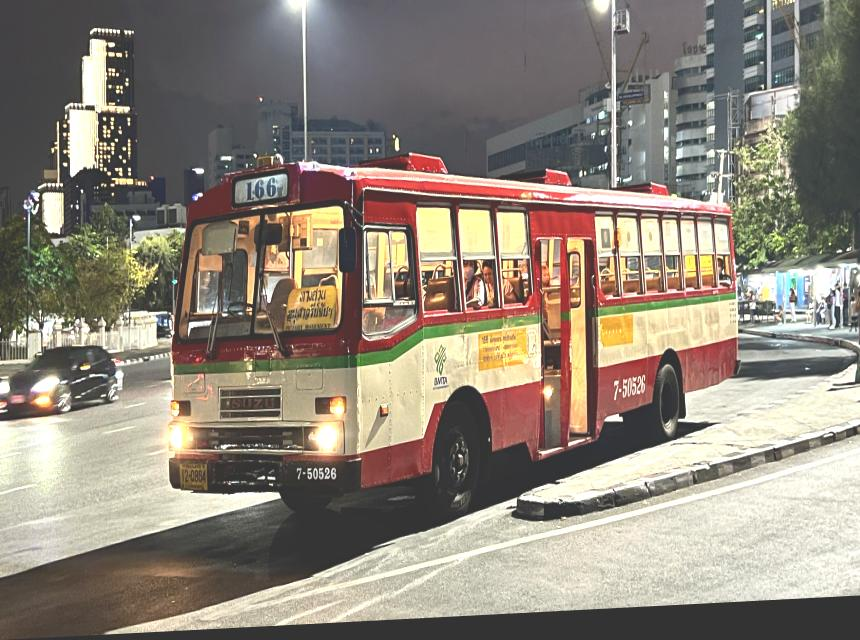BMTA-bus: (162, 156, 740, 531)
Bus Line Number: (244, 177, 282, 205)
Bus Side Number: (612, 377, 650, 407), (293, 465, 339, 488)
Destination Sign: (282, 283, 338, 339)
